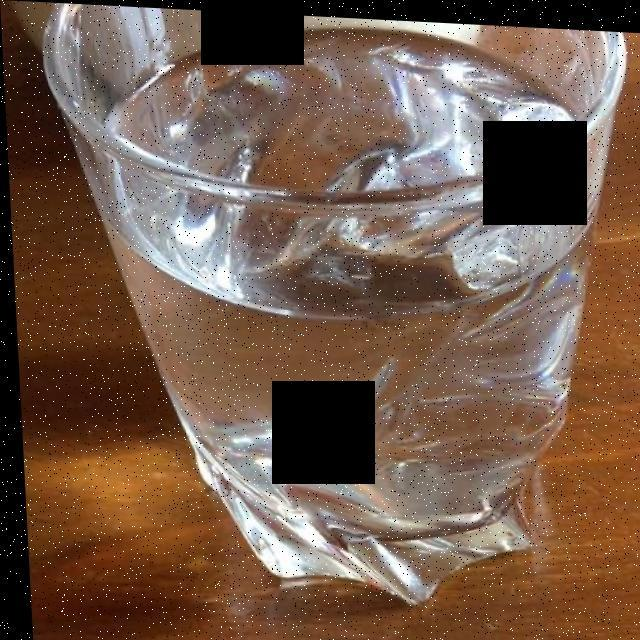water: (93, 32, 609, 569)
